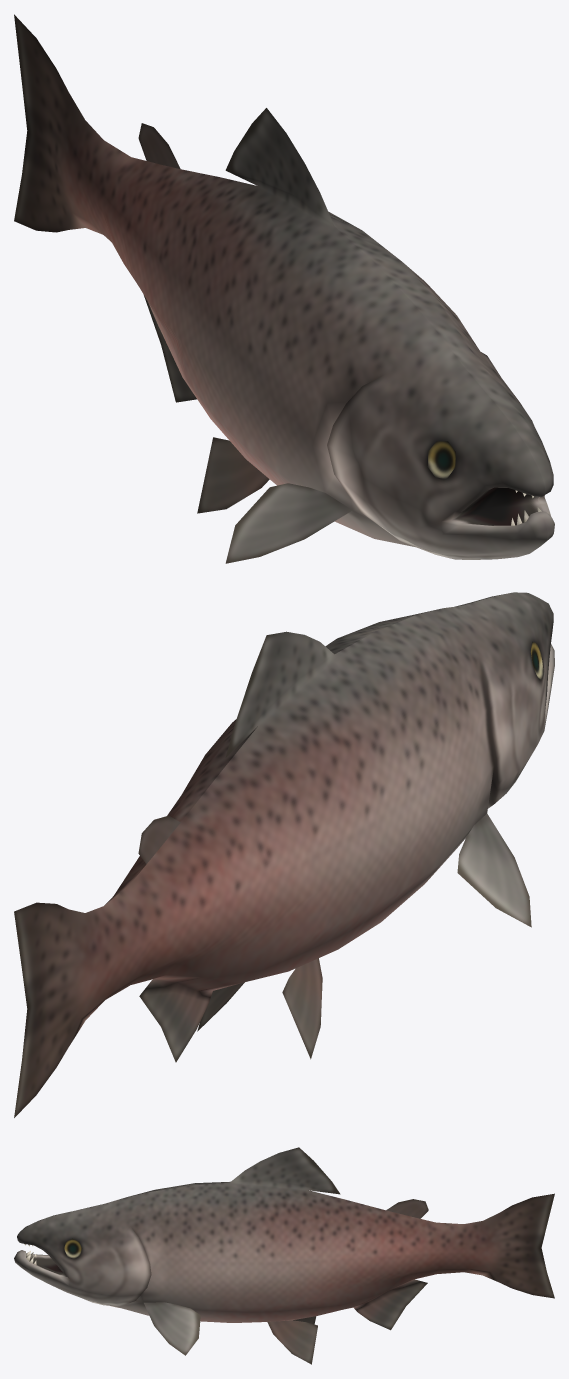
Rendered from king-salmon.glb.
The picture shows the model from 3 angles, top to bottom: view 1: azimuth 30°, elevation 25°; view 2: azimuth 150°, elevation 25°; view 3: azimuth 270°, elevation 25°; orthographic projection. The views are drawn at different scales.
Visible parts, largest first — view 1: FishKingsalmon__mKingsalmon; view 2: FishKingsalmon__mKingsalmon; view 3: FishKingsalmon__mKingsalmon.
Boxes of the visible parts, x1=… form: FishKingsalmon__mKingsalmon: x1=14, y1=14, x2=554, y2=563; FishKingsalmon__mKingsalmon: x1=14, y1=592, x2=554, y2=1117; FishKingsalmon__mKingsalmon: x1=14, y1=1147, x2=554, y2=1364.
Bounding box in the file's own units: 4.27 × 5.35 × 12.91.
Materials: 1 (1 with a texture image).
